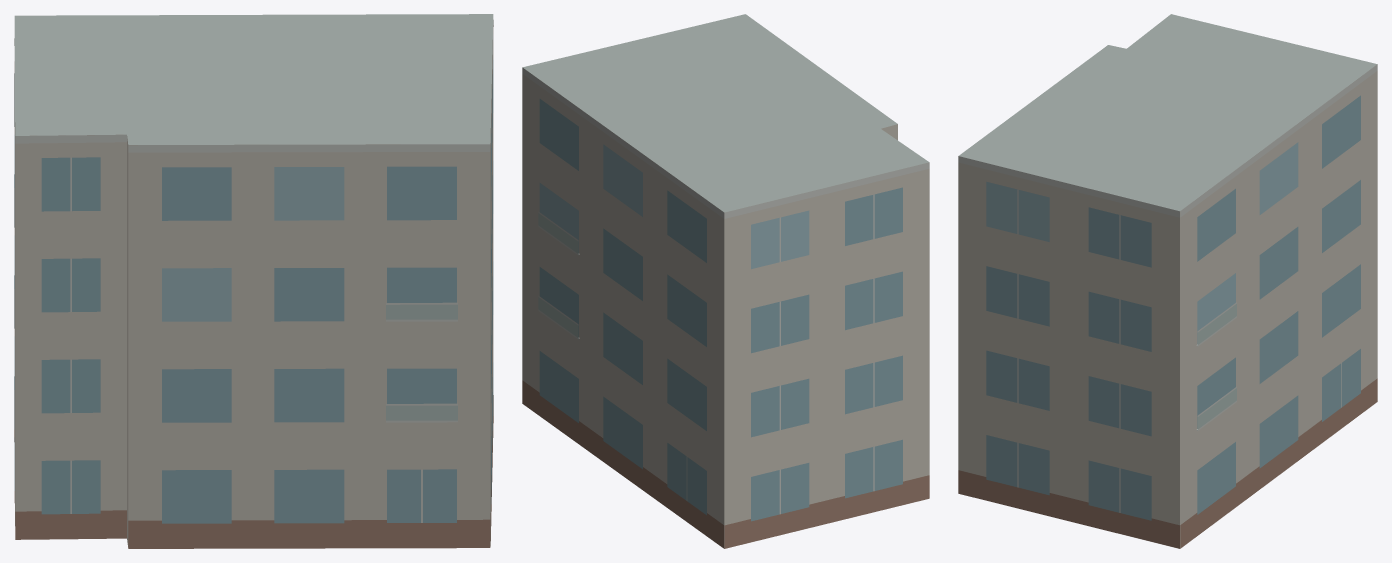
Rendered from survey-upis-32884793.glb.
3 views of the same model, side by side, from view 1: azimuth 30°, elevation 25°; view 2: azimuth 150°, elevation 25°; view 3: azimuth 270°, elevation 25° (orthographic). The views are drawn at different scales.
Parts seen in each view (by area): view 1: survey-upis-32884793.tmp; view 2: survey-upis-32884793.tmp; view 3: survey-upis-32884793.tmp.
Boxes of the visible parts, left/top/right/bottom form: survey-upis-32884793.tmp: left=14, top=14, right=493, bottom=548; survey-upis-32884793.tmp: left=522, top=14, right=929, bottom=548; survey-upis-32884793.tmp: left=958, top=14, right=1377, bottom=548.
Size of the model in its own units: 16.05 by 12.8 by 14.41.
